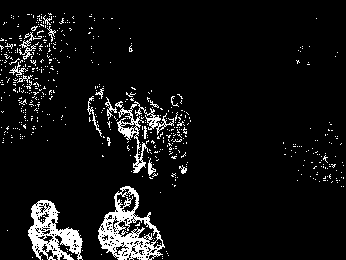person: (99, 186, 167, 260), (28, 200, 81, 260), (159, 91, 191, 184), (112, 86, 145, 172), (141, 92, 163, 179), (86, 84, 114, 147)
